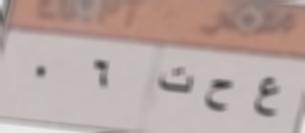0: (30, 57, 51, 87)
6: (92, 55, 112, 95)
7aa: (203, 74, 234, 119)
ain: (252, 72, 282, 123)
taa: (156, 65, 198, 97)
